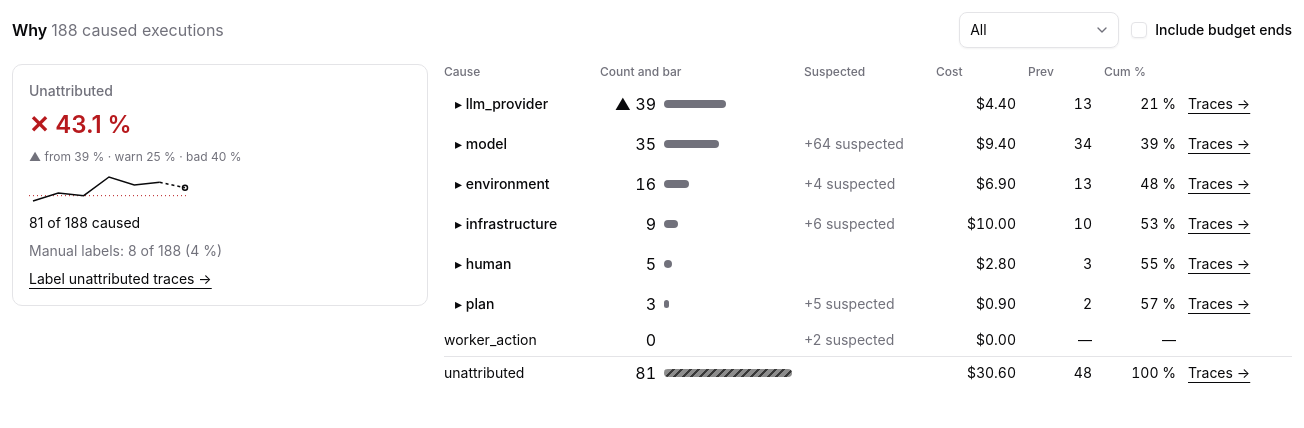
Test: WhySection › opens a category with its button and writes the cause
Click the button "▸ model": point(481, 144) [444, 128, 518, 160]
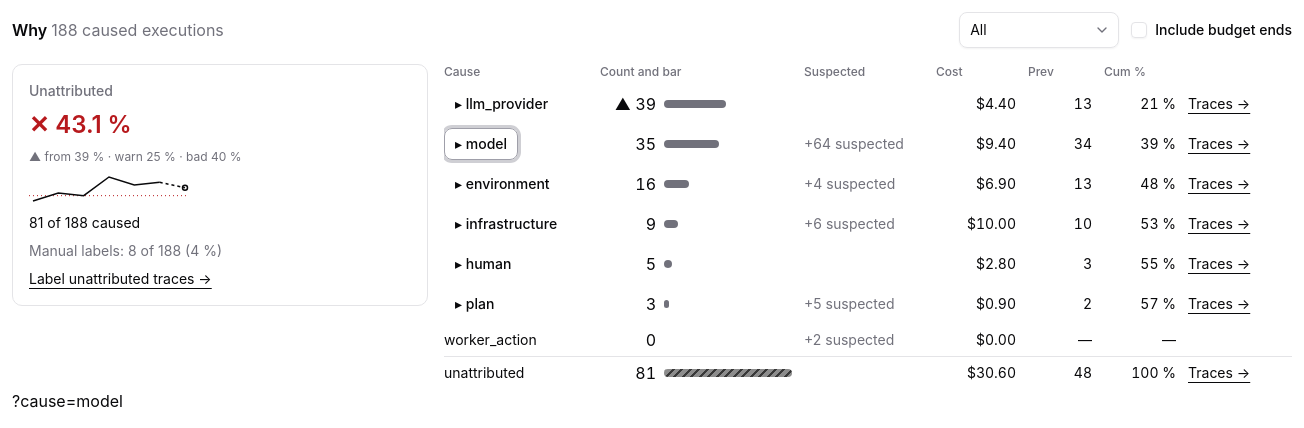
Result: the text named "Search" reads "?cause=model" at [12, 391, 123, 411]
